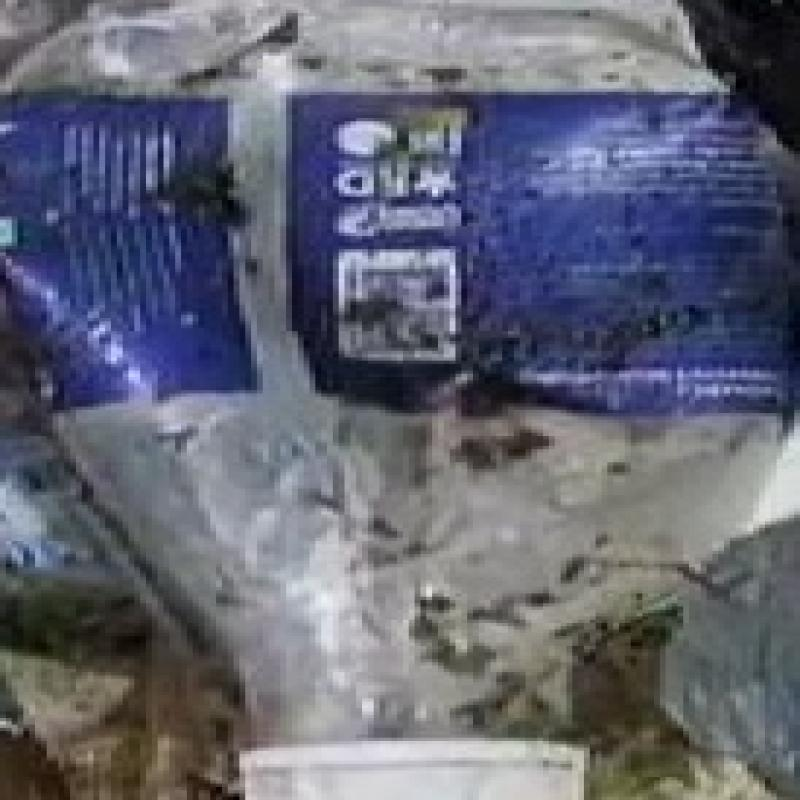botella: (26, 0, 800, 800)
